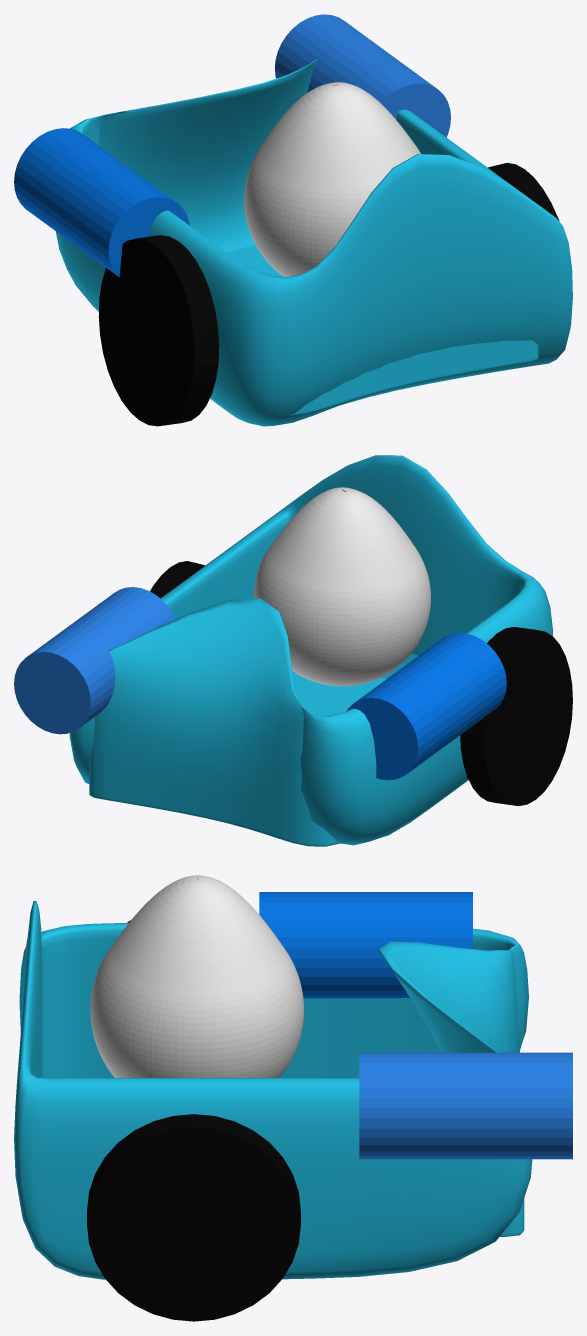
The model's file is kart.fbx.
3 renders of one model, top to bottom at view 1: azimuth 30°, elevation 25°; view 2: azimuth 150°, elevation 25°; view 3: azimuth 270°, elevation 25°, orthographic. The views are drawn at different scales.
Parts seen in each view (by area): view 1: kart, Sphere, Cylinder.001, Cylinder.003, Cylinder.002, Cylinder; view 2: kart, Sphere, Cylinder.001, Cylinder.003, Cylinder.002, Cylinder; view 3: kart, Cylinder, Sphere, Cylinder.002, Cylinder.003.
Boxes of the visible parts, x1,y1,x2,y2 form: kart: [56, 59, 572, 426]; Sphere: [244, 82, 420, 276]; Cylinder.001: [98, 235, 219, 426]; Cylinder.003: [14, 128, 189, 276]; Cylinder.002: [274, 14, 450, 137]; Cylinder: [488, 163, 559, 221]; kart: [69, 455, 552, 846]; Sphere: [254, 487, 430, 686]; Cylinder.001: [460, 627, 572, 806]; Cylinder.003: [347, 633, 506, 780]; Cylinder.002: [14, 587, 175, 734]; Cylinder: [150, 561, 204, 598]; kart: [14, 901, 532, 1279]; Cylinder: [87, 1114, 300, 1321]; Sphere: [90, 875, 303, 1077]; Cylinder.002: [359, 1052, 572, 1159]; Cylinder.003: [259, 892, 472, 998].
Size of the model in its own units: 474 by 351 by 523.
